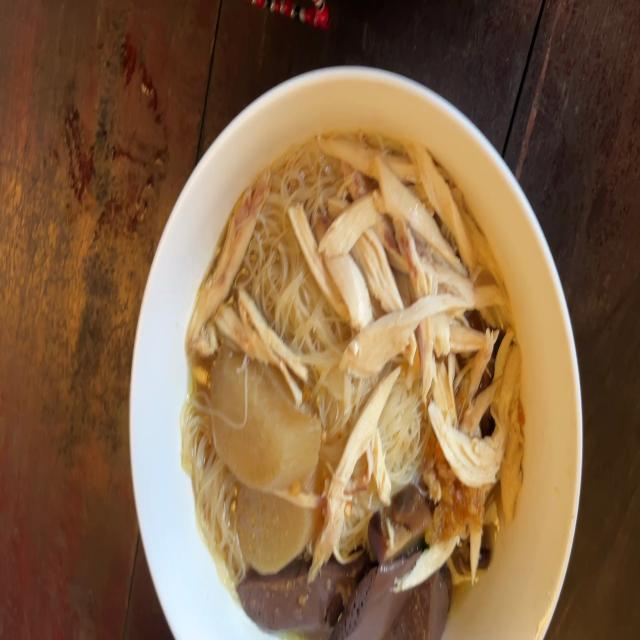boiled_chicken_blood_jelly: (253, 566, 455, 640)
chicken_shredded: (311, 143, 479, 344), (416, 330, 527, 531), (182, 183, 273, 349)
daikon_radish: (198, 345, 318, 491), (237, 490, 322, 564)
noodle: (160, 112, 543, 640)
